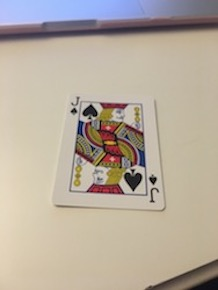JackOfSpades: (49, 87, 173, 218)
